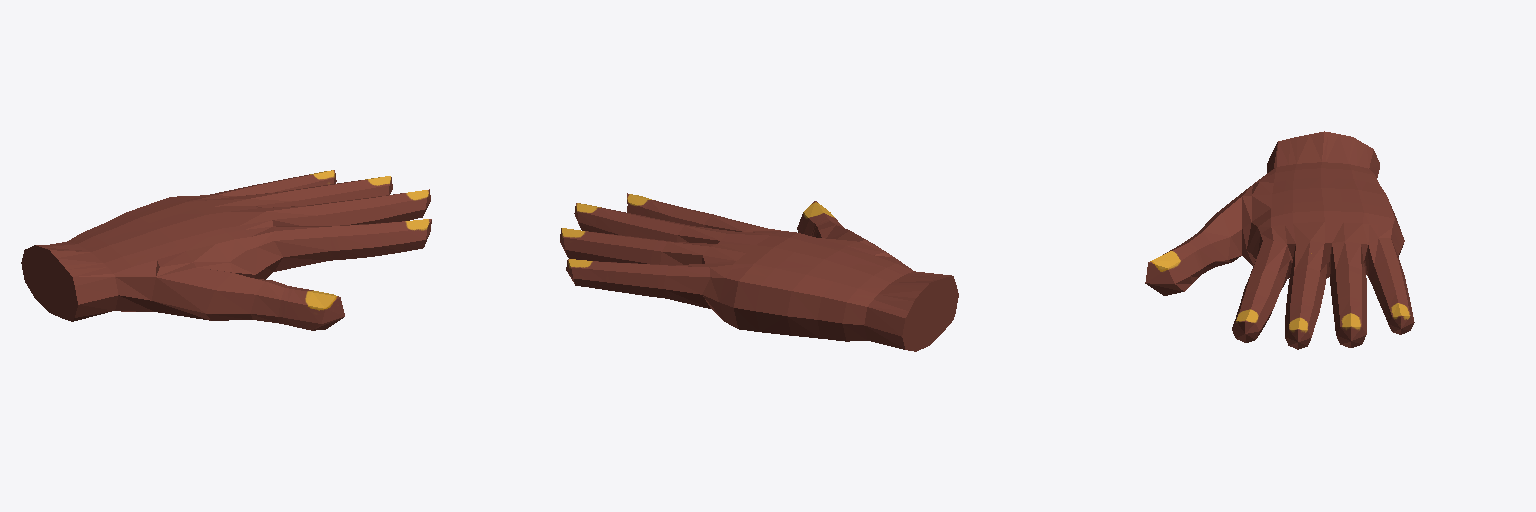
3 views of the same model, side by side, from view 1: azimuth 30°, elevation 25°; view 2: azimuth 150°, elevation 25°; view 3: azimuth 270°, elevation 25° (orthographic).
Parts seen in each view (by area): view 1: pinky1; view 2: pinky1; view 3: pinky1.
Part boxes in pixels (left/top/right/bottom): pinky1: left=21, top=170, right=431, bottom=330; pinky1: left=560, top=193, right=958, bottom=351; pinky1: left=1145, top=131, right=1414, bottom=349.
Size of the model in its own units: 17.38 by 3.12 by 10.99.
Materials: 1 (1 with a texture image).